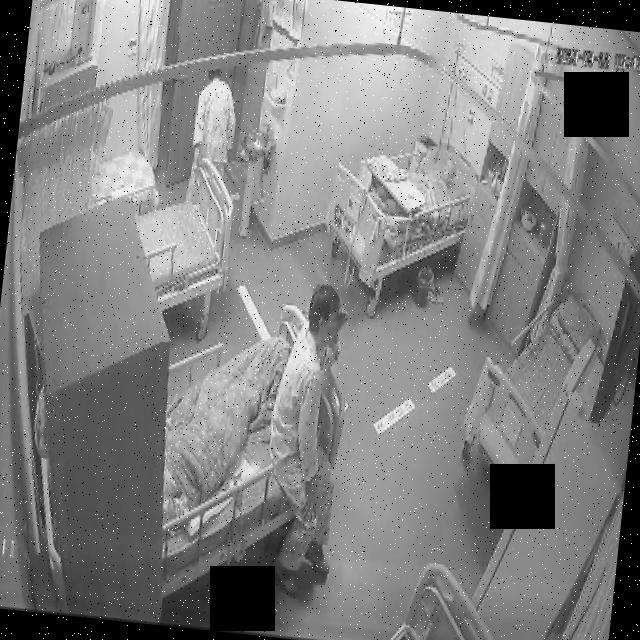bed: (148, 299, 350, 582), (457, 276, 594, 508), (322, 132, 478, 294), (130, 148, 241, 314)
patient: (254, 281, 354, 594), (188, 59, 252, 172)
sit: (254, 280, 358, 596)
